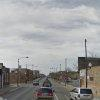Car: (66, 84, 94, 100)
